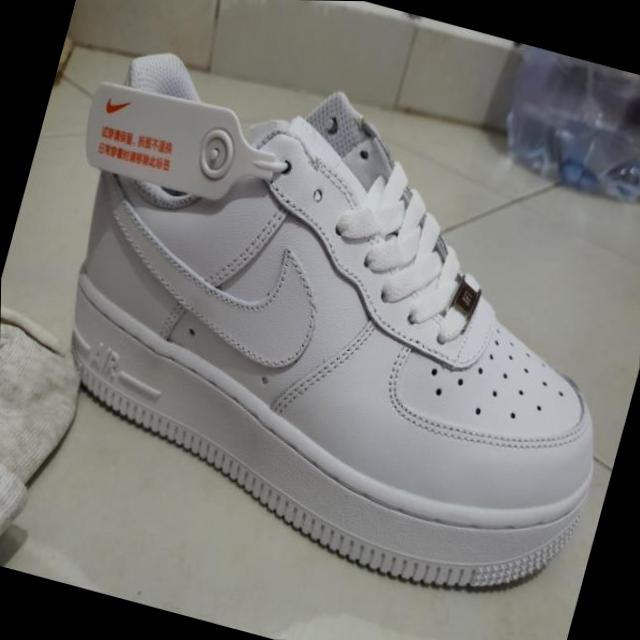nike_original_airforce: (8, 33, 640, 623)
